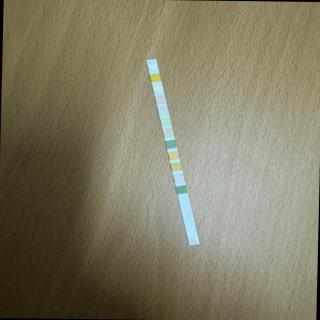mark: (174, 175, 184, 184), (177, 186, 187, 194), (166, 140, 175, 148), (162, 118, 171, 126), (152, 74, 161, 82), (170, 152, 178, 160), (172, 163, 181, 170), (164, 130, 173, 136), (159, 107, 168, 113), (156, 96, 165, 102), (148, 64, 157, 70), (153, 85, 162, 90)
